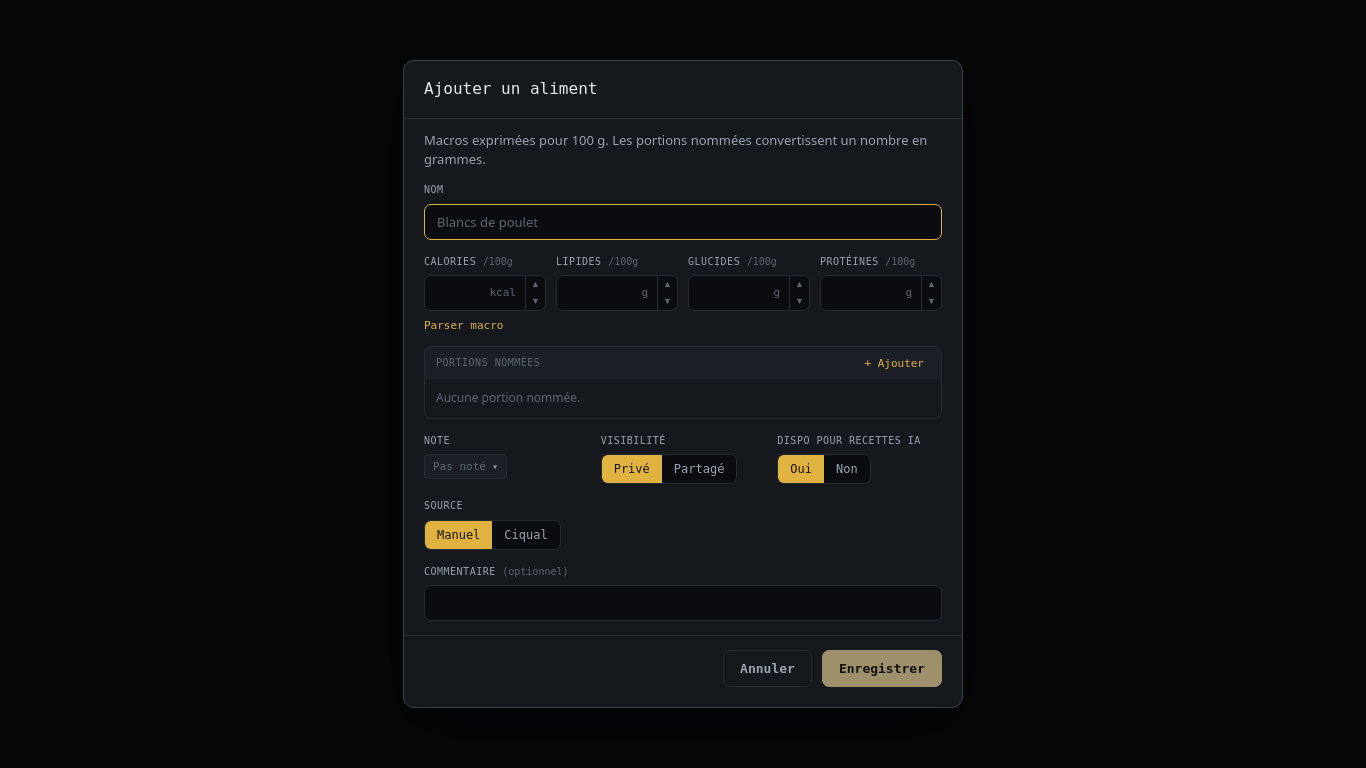
Test case: FoodModal — a sub-dialog closes alone (B-300) › keeps the food form open when the macro-parse dialog is cancelled
Type something first: the point of the bug is that the draft was lost.
Type "Yaourt grec" into the field labelled "Nom" at (683, 222), box 424,204 -> 942,240
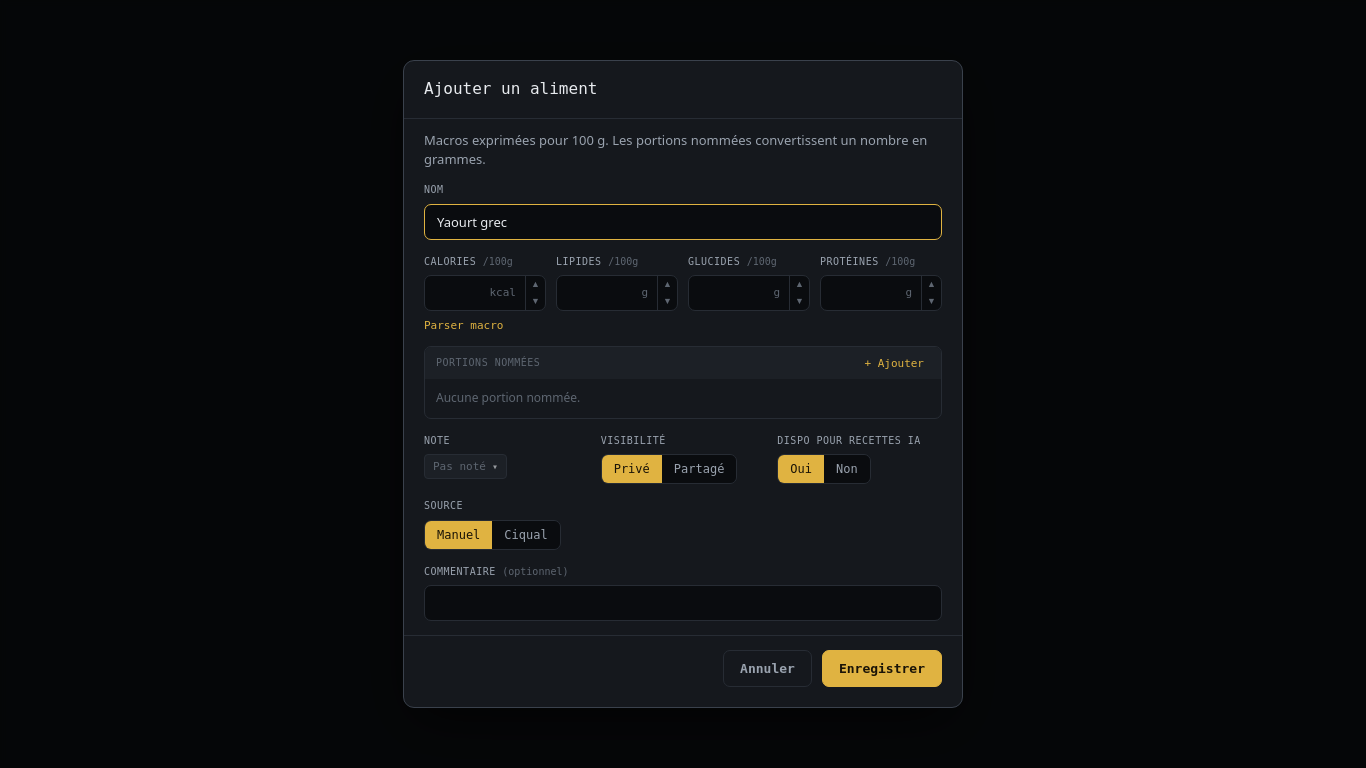
Click the button "Parser macro" at (464, 326), box 424,319 -> 504,332
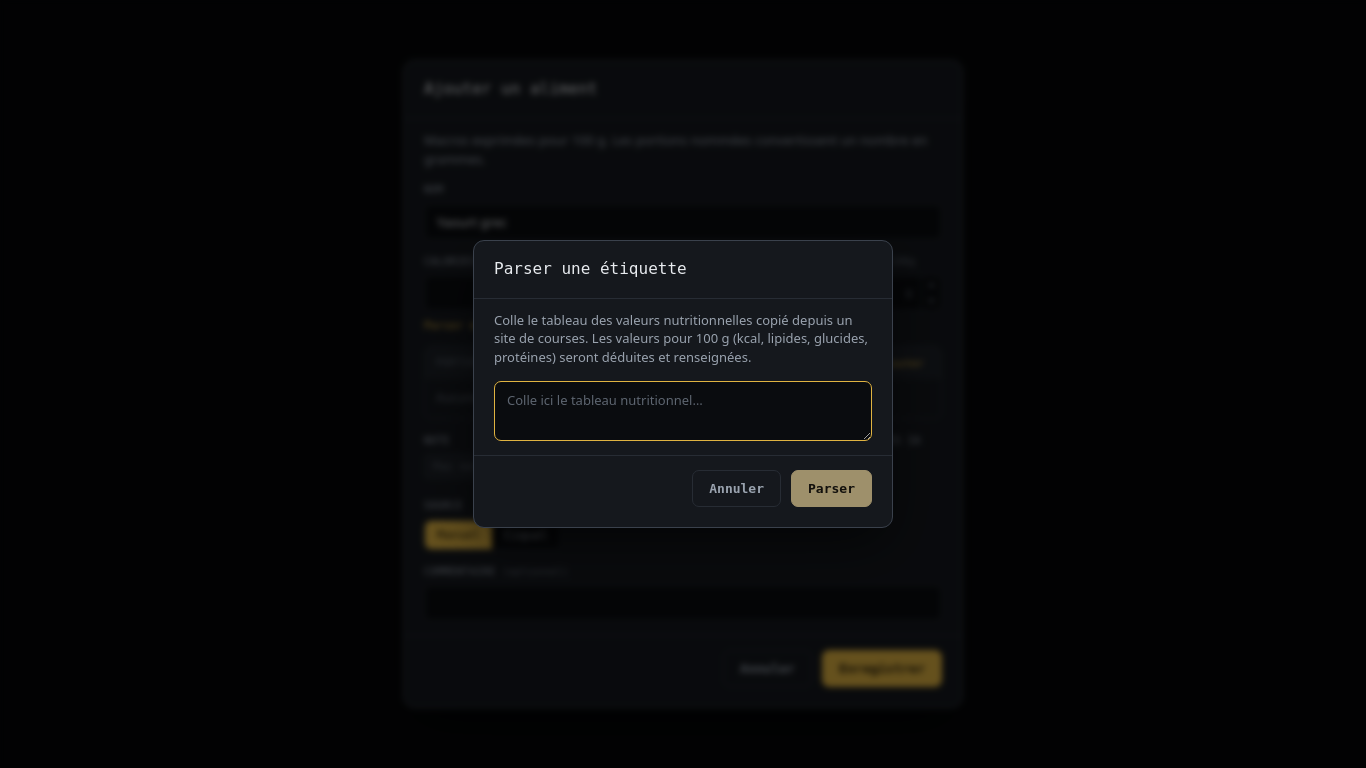
Cancel the SUB-dialog (both dialogs carry an "Annuler" — scope to the top one).
Click the button "Annuler" at (737, 489), box 692,470 -> 781,507
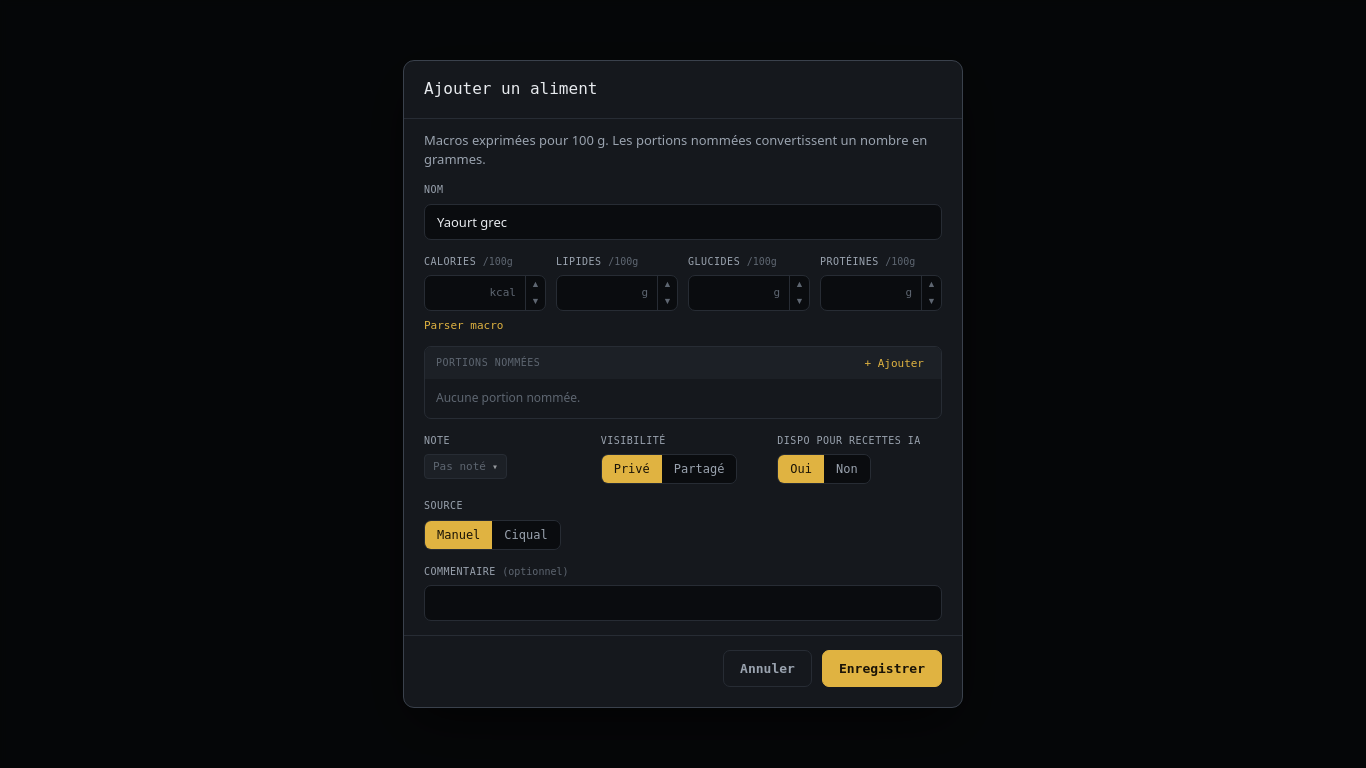
Expected: the text "Ajouter un aliment" is shown, 404,61 -> 962,119
Expected: the text "Parser une étiquette" is gone
